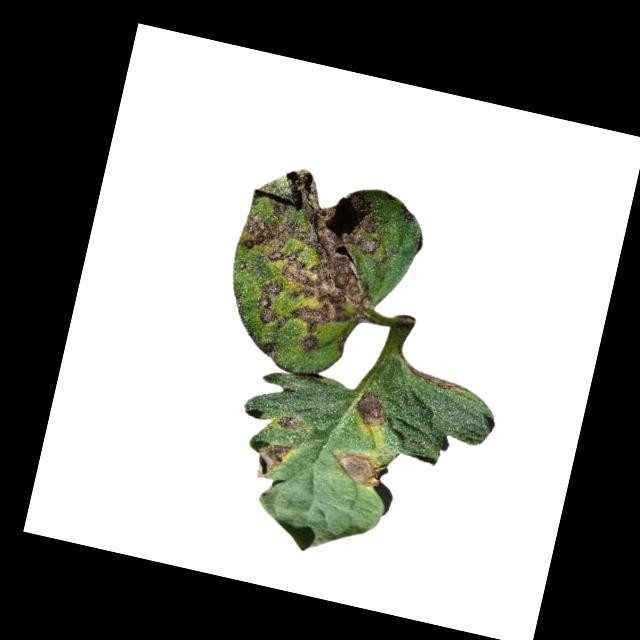Early_blight: (218, 160, 402, 364), (331, 446, 386, 491), (248, 438, 296, 483), (350, 388, 392, 431), (409, 366, 471, 395), (259, 338, 281, 363), (277, 414, 304, 432)
